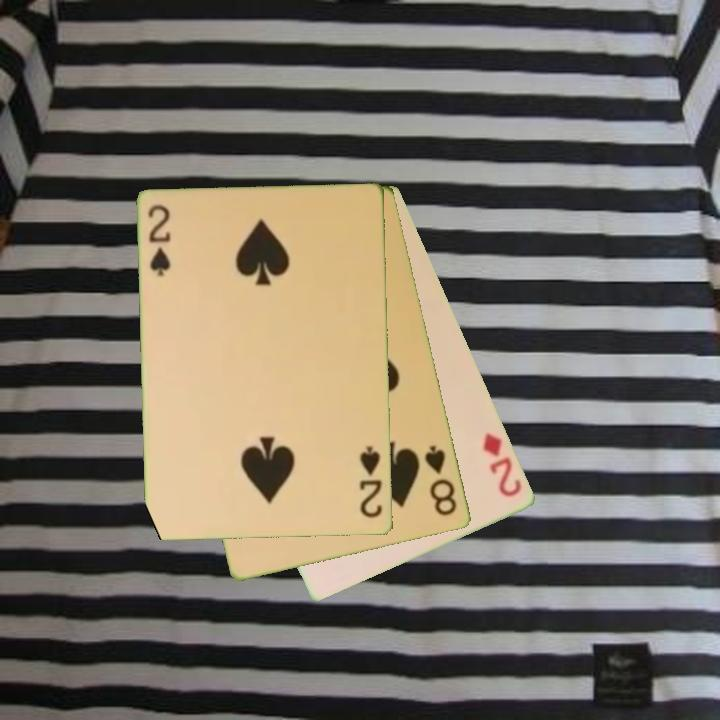2d: (480, 430, 525, 500)
2s: (356, 443, 386, 521), (145, 201, 174, 279)
8s: (421, 442, 460, 519)
